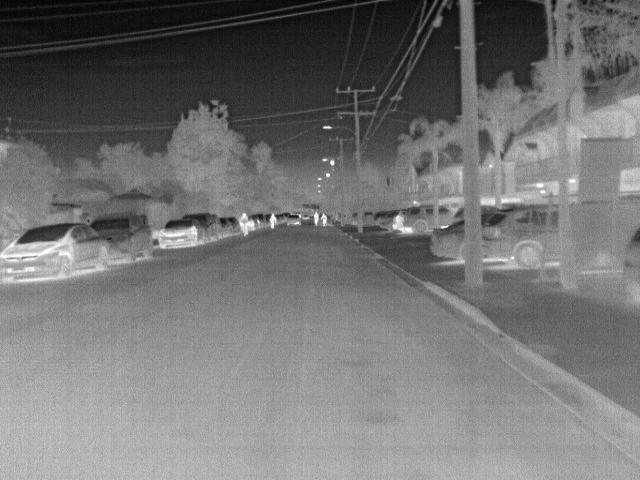car: (1, 221, 110, 282), (482, 202, 542, 270), (91, 213, 154, 267), (433, 218, 466, 264), (159, 218, 199, 248), (401, 204, 436, 234), (185, 214, 218, 243), (376, 208, 397, 230), (390, 207, 407, 233), (220, 218, 234, 238), (285, 212, 302, 227), (229, 215, 241, 234), (252, 213, 267, 228), (249, 212, 262, 229)
person: (237, 211, 251, 236), (268, 212, 278, 230), (319, 211, 329, 226), (311, 211, 320, 226)
